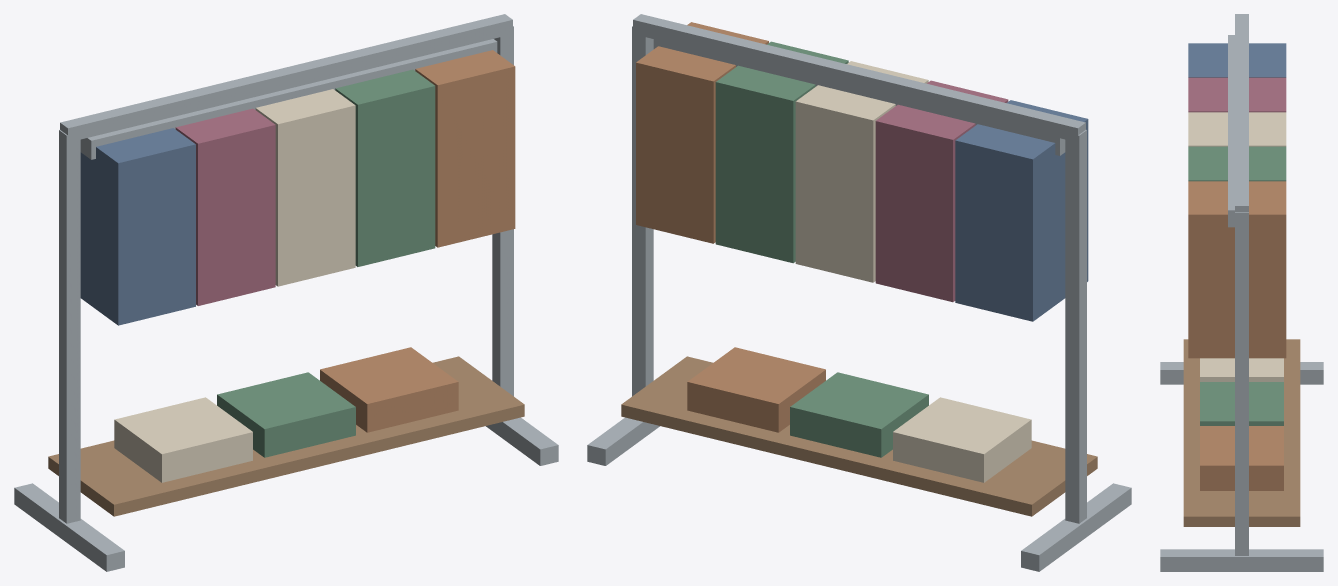
Rendered from clothing_rack.glb.
3 views of the same model, side by side, from view 1: azimuth 30°, elevation 25°; view 2: azimuth 150°, elevation 25°; view 3: azimuth 270°, elevation 25° (orthographic). The views are drawn at different scales.
Visible parts, largest first — view 1: clothing_rack; view 2: clothing_rack; view 3: clothing_rack.
Boxes of the visible parts, <box> form: clothing_rack: <box>14,14,558,571</box>; clothing_rack: <box>587,14,1131,571</box>; clothing_rack: <box>1160,14,1323,571</box>.
Bounding box in the file's own units: 1.98 × 1.73 × 0.7.
